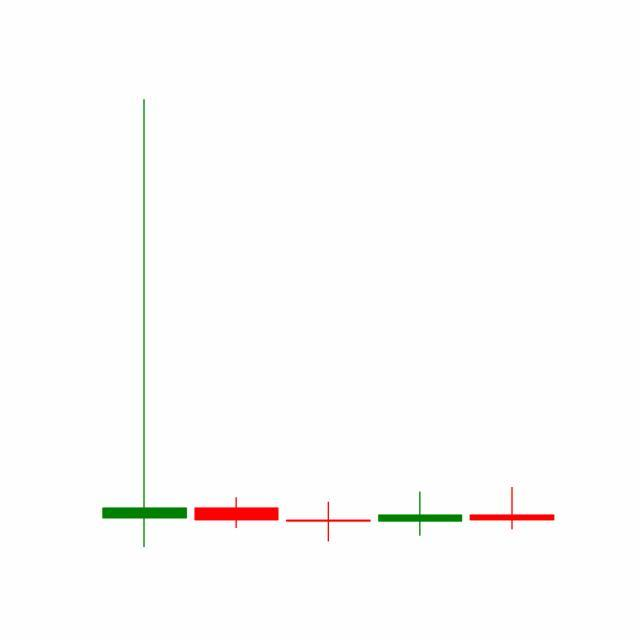Spinning Top: (466, 486, 559, 530)
